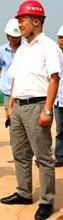boots: (0, 191, 33, 203), (0, 144, 5, 155)
hard-hat: (5, 18, 22, 37)
